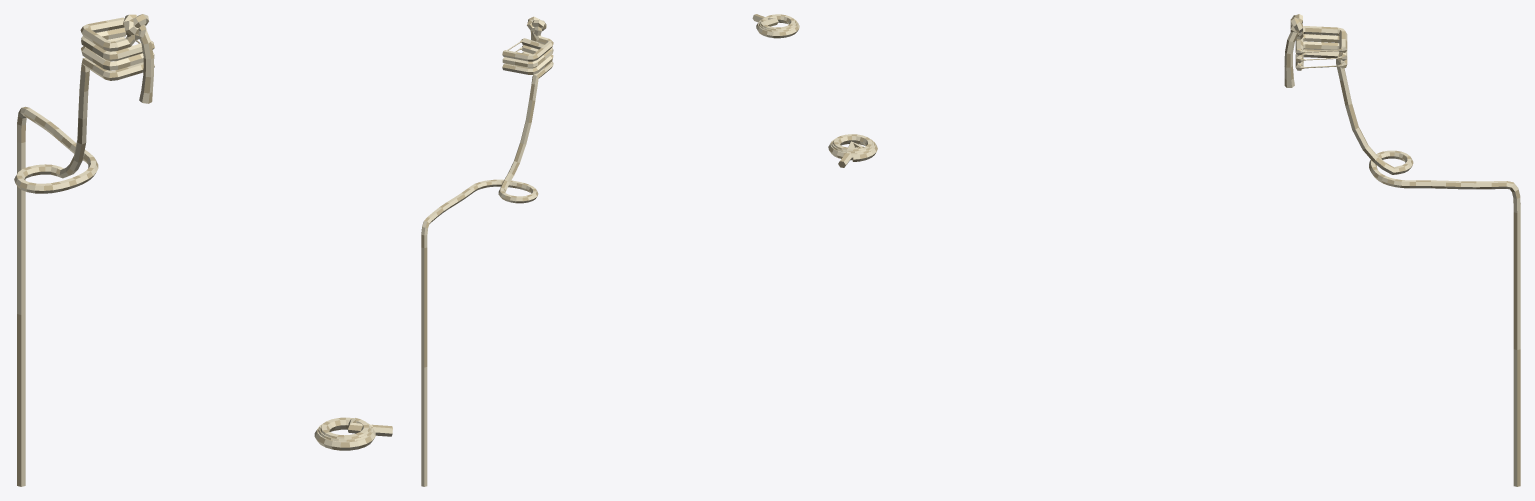
Rendered from props.glb.
3 views of the same model, side by side, from view 1: azimuth 30°, elevation 25°; view 2: azimuth 150°, elevation 25°; view 3: azimuth 270°, elevation 25° (orthographic). The views are drawn at different scales.
Visible parts, largest first — view 1: rope-tied_Rope, rope_Coil; view 2: rope-tied_Rope, rope_Coil; view 3: rope-tied_Rope, rope_Coil.
Part boxes in pixels (x1,y1,x2,y2): rope-tied_Rope: (14, 14, 154, 486); rope_Coil: (314, 417, 392, 450); rope-tied_Rope: (421, 16, 553, 486); rope_Coil: (752, 14, 799, 38); rope-tied_Rope: (1284, 14, 1520, 486); rope_Coil: (828, 134, 877, 167).
Bounding box in the file's own units: 0.9178 × 4.03 × 5.5.
